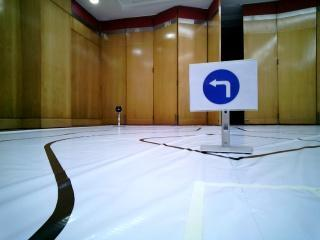left: (189, 65, 262, 110)
